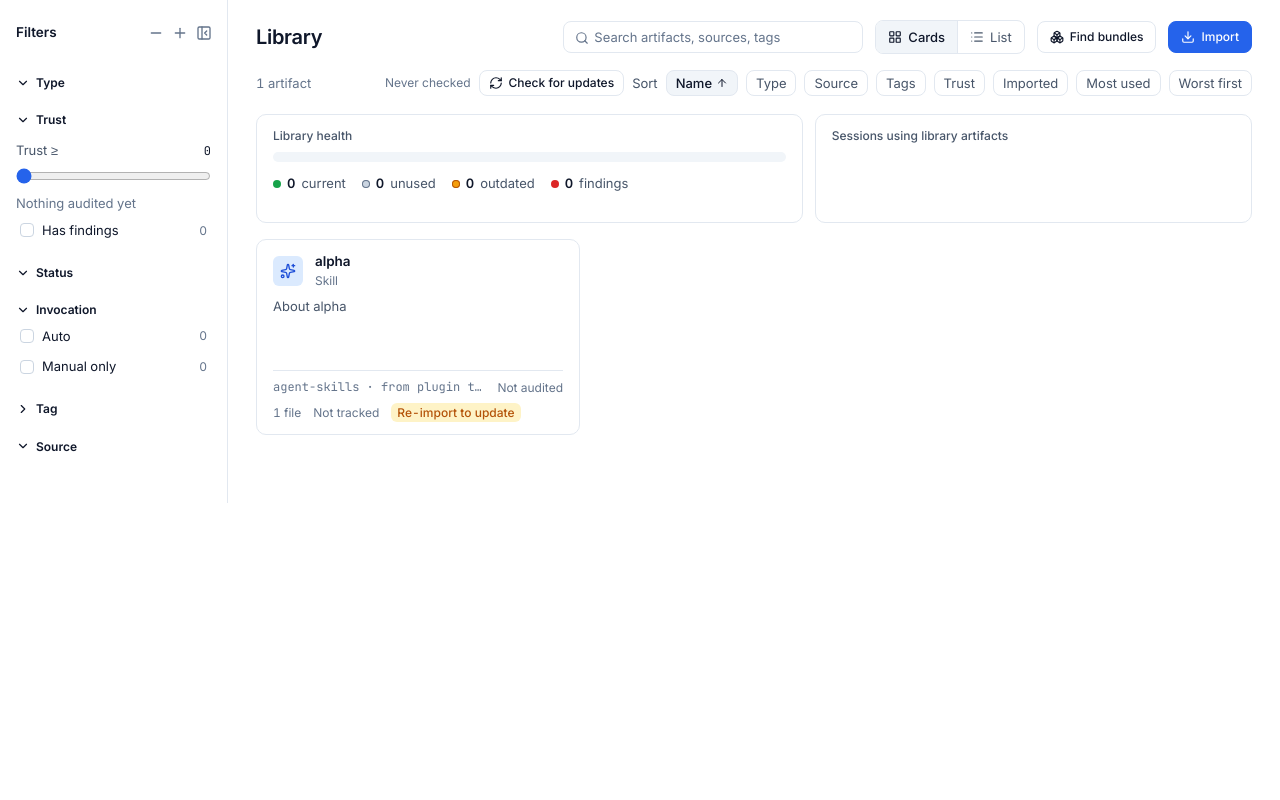
Scenario: unpacked parts in the library › says so in the detail panel, with what happens meanwhile
Click the button "alpha". click: (333, 261)
box: [256,239,580,435]
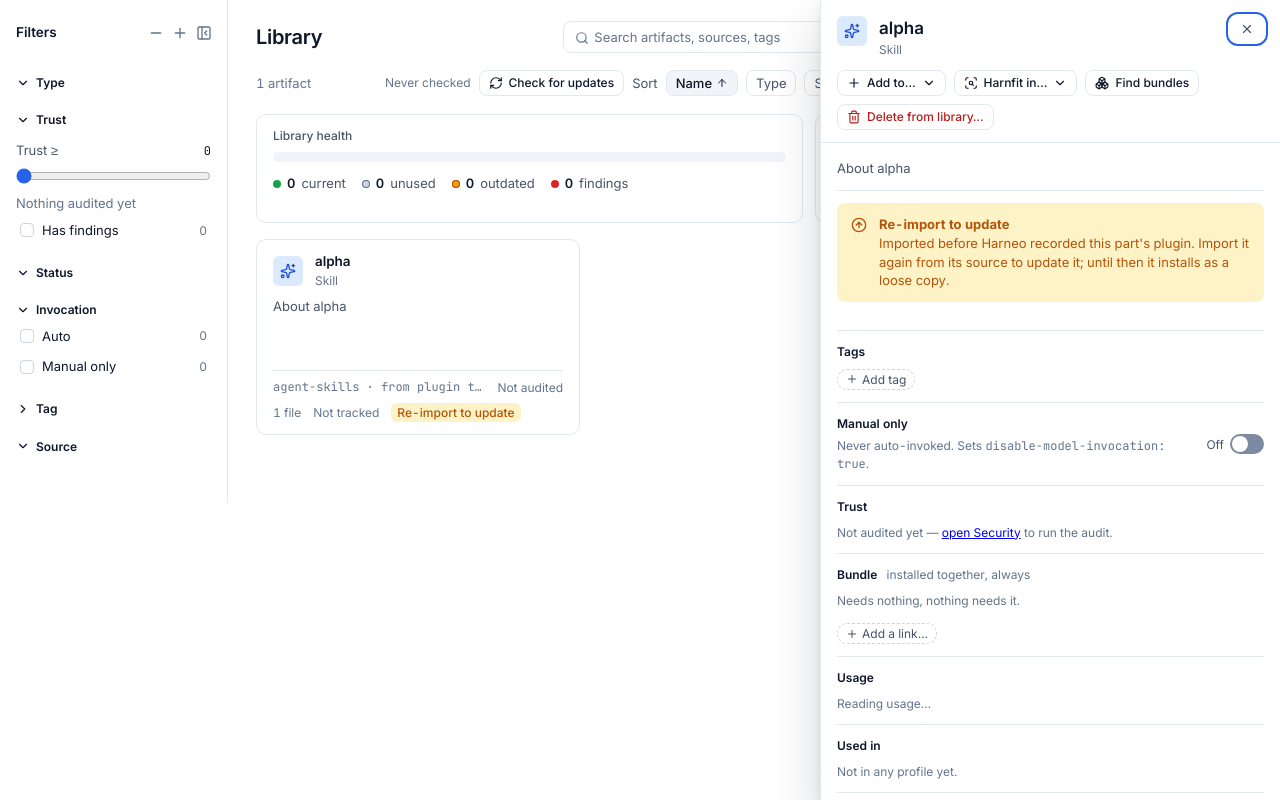
Check: the element "Re-import to update" shows "installs as a loose copy", box [879,235,1249,288]
